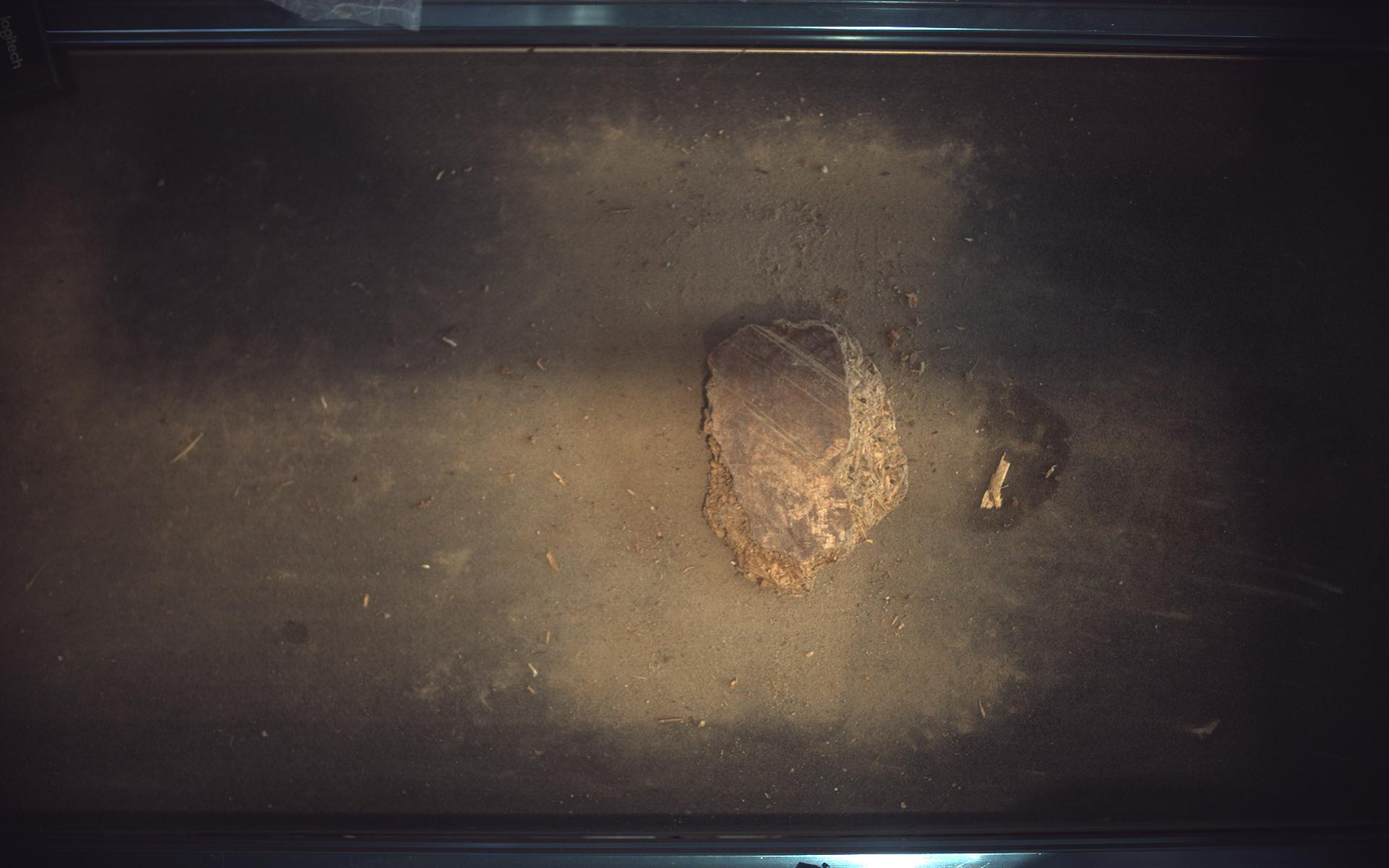wood: (705, 319, 909, 595)
